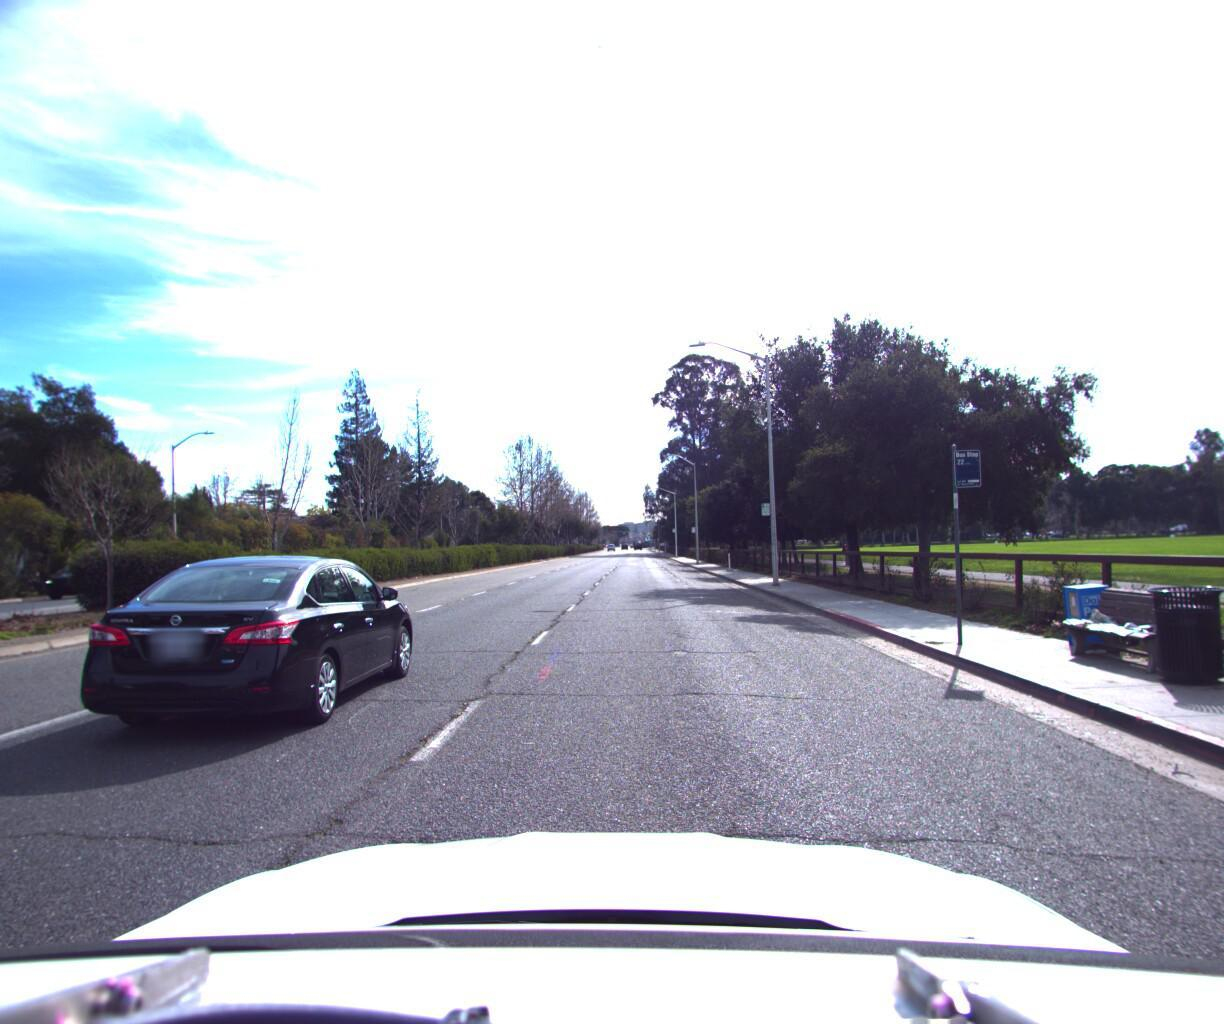car: (61, 545, 429, 757)
